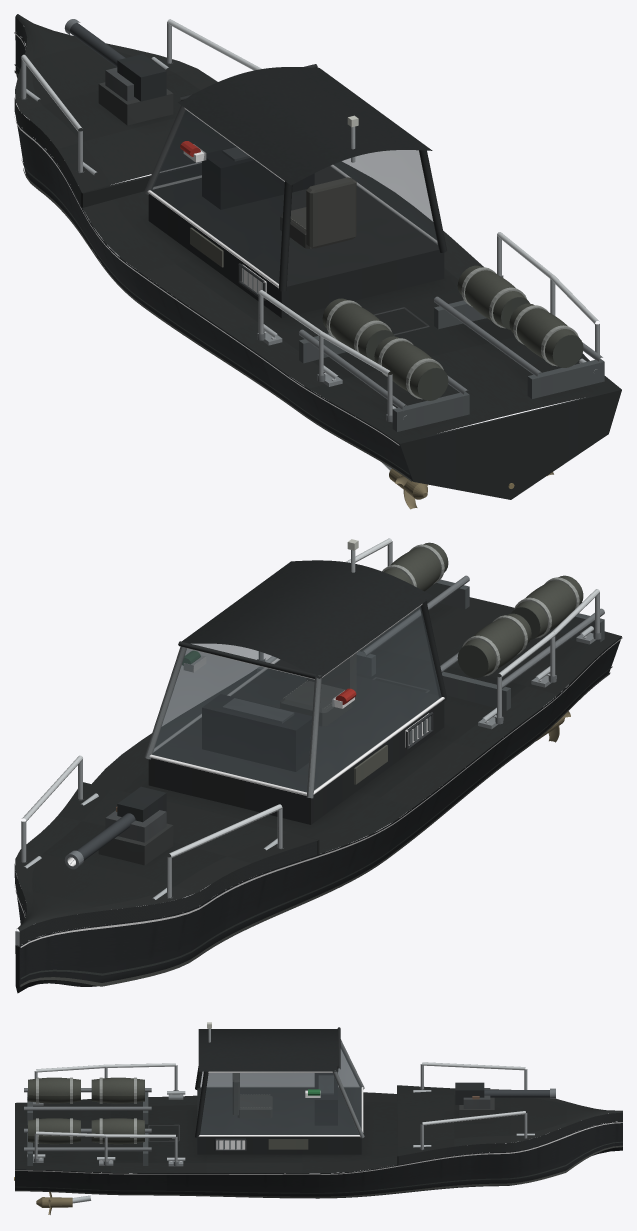
Rendered from speedboat.glb.
3 renders of one model, top to bottom at view 1: azimuth 30°, elevation 25°; view 2: azimuth 150°, elevation 25°; view 3: azimuth 270°, elevation 25°, orthographic. The views are drawn at different scales.
Parts seen in each view (by area): view 1: cabin_sill, aftdeck_L, cabin_roof, transom, aftdeck_R, hull_L_topsides, cabin_window_L, foredeck_L, cabin_window_R, foredeck_R, helm_console, helm_back (+23 smaller); view 2: hull_L_topsides, cabin_sill, aftdeck_L, windscreen, cabin_roof, cabin_window_L, foredeck_L, aftdeck_R, foredeck_R, helm_console, cabin_window_R, bow_cap_L (+26 smaller); view 3: hull_R_topsides, aftdeck_R, cabin_window_R, cabin_sill, cabin_roof, aftdeck_L, foredeck_R, foredeck_L, bow_cap_R, cabin_window_L, chine_R, charge_drum_1 (+26 smaller).
Boxes of the visible parts, bbox=[...] form: cabin_sill: bbox=[148, 166, 444, 318]; aftdeck_L: bbox=[82, 191, 510, 443]; cabin_roof: bbox=[178, 67, 432, 185]; transom: bbox=[400, 390, 621, 499]; aftdeck_R: bbox=[333, 161, 621, 414]; hull_L_topsides: bbox=[15, 31, 412, 481]; cabin_window_L: bbox=[151, 110, 284, 283]; foredeck_L: bbox=[15, 14, 195, 192]; cabin_window_R: bbox=[330, 150, 437, 244]; foredeck_R: bbox=[18, 14, 235, 152]; helm_console: bbox=[202, 146, 314, 209]; helm_back: bbox=[306, 177, 356, 248]; hull_L_topsides: bbox=[19, 636, 621, 986]; cabin_sill: bbox=[148, 659, 444, 824]; aftdeck_L: bbox=[217, 607, 621, 854]; windscreen: bbox=[152, 648, 314, 792]; cabin_roof: bbox=[182, 560, 432, 678]; cabin_window_L: bbox=[314, 606, 441, 790]; foredeck_L: bbox=[18, 809, 317, 930]; aftdeck_R: bbox=[92, 597, 510, 813]; foredeck_R: bbox=[15, 783, 199, 928]; helm_console: bbox=[202, 694, 312, 771]; cabin_window_R: bbox=[153, 643, 280, 752]; bow_cap_L: bbox=[19, 841, 316, 945]; hull_R_topsides: bbox=[15, 1121, 622, 1196]; aftdeck_R: bbox=[15, 1128, 397, 1173]; cabin_window_R: bbox=[200, 1073, 358, 1134]; cabin_sill: bbox=[197, 1087, 361, 1154]; cabin_roof: bbox=[198, 1029, 338, 1071]; aftdeck_L: bbox=[15, 1092, 396, 1134]; foredeck_R: bbox=[398, 1110, 622, 1156]; foredeck_L: bbox=[398, 1085, 614, 1119]; bow_cap_R: bbox=[399, 1112, 622, 1164]; cabin_window_L: bbox=[200, 1050, 358, 1087]; chine_R: bbox=[15, 1145, 622, 1197]; charge_drum_1: bbox=[92, 1077, 144, 1103].
Size of the model in its own units: 3.22 by 3.13 by 10.02.
Materials: 92 (92 with a texture image).
